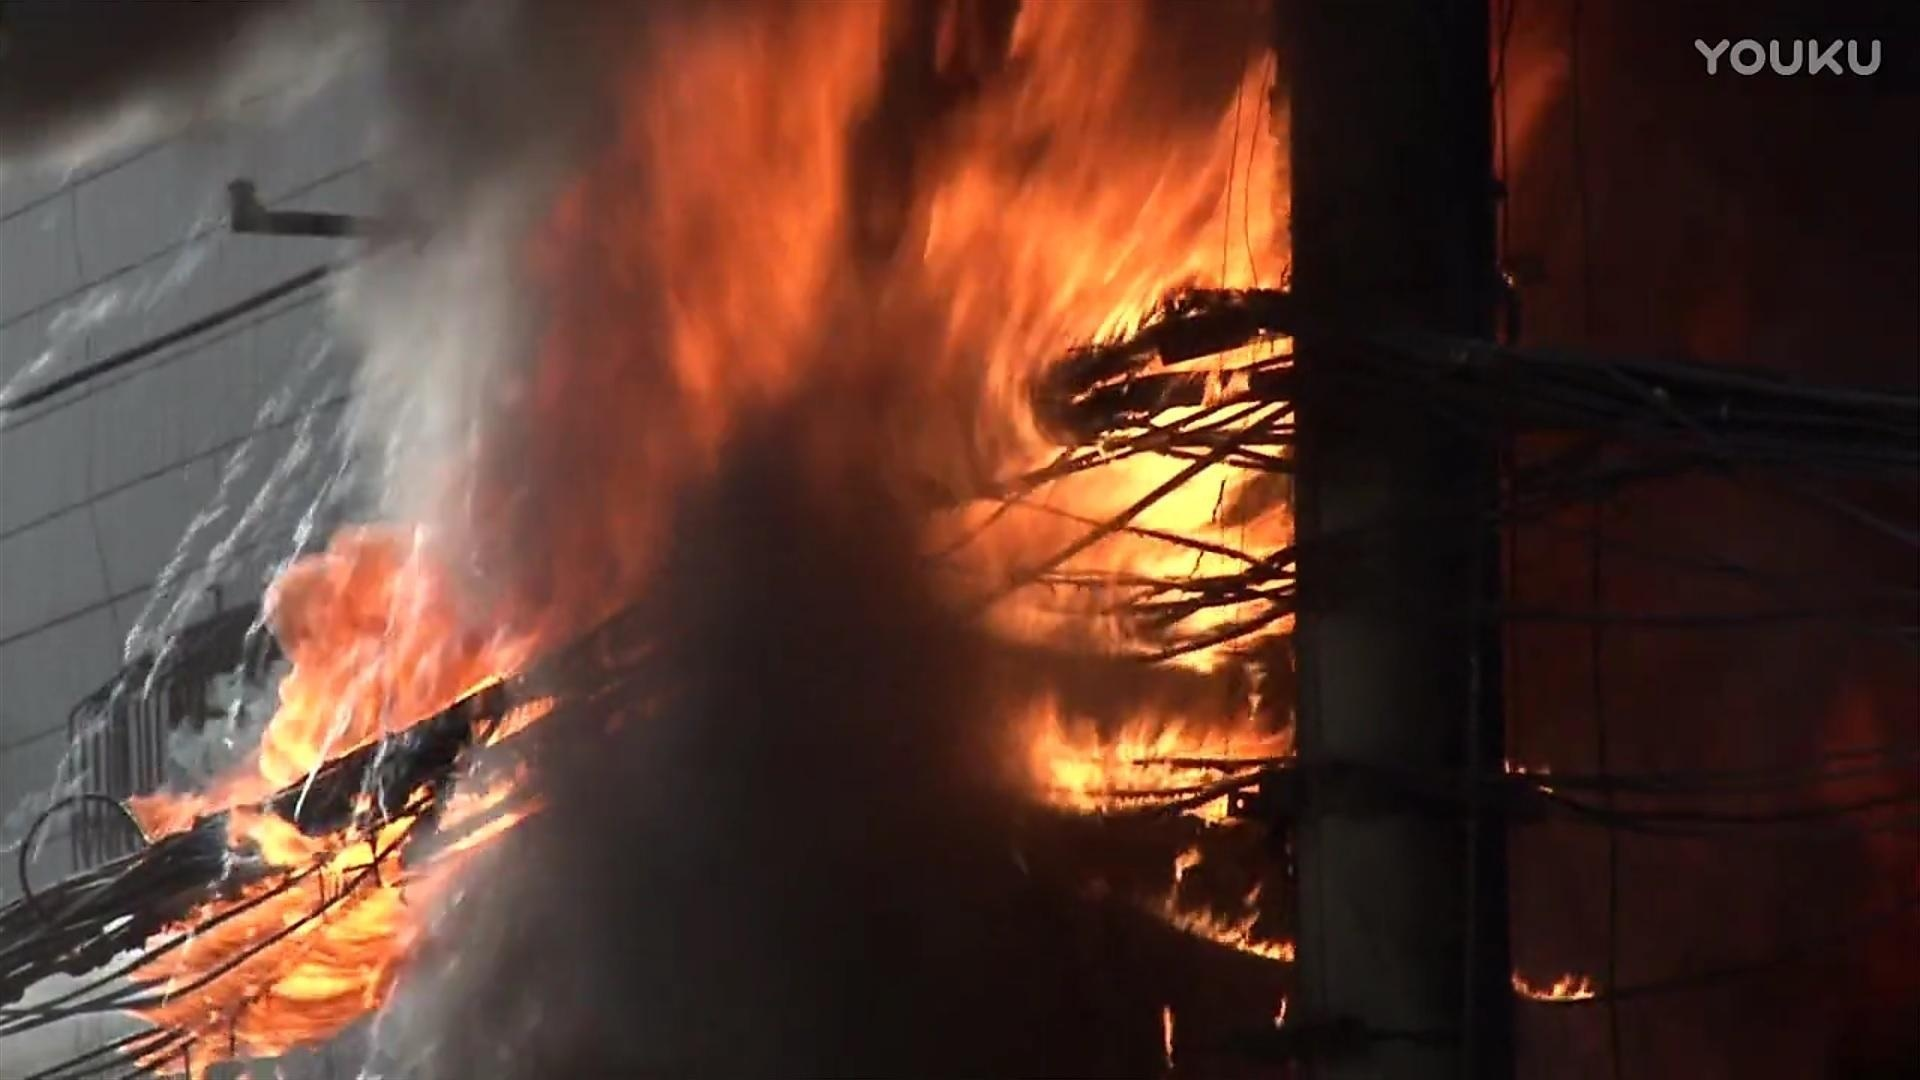fire: (476, 3, 1340, 975), (123, 535, 553, 1033), (1510, 964, 1604, 1006)
